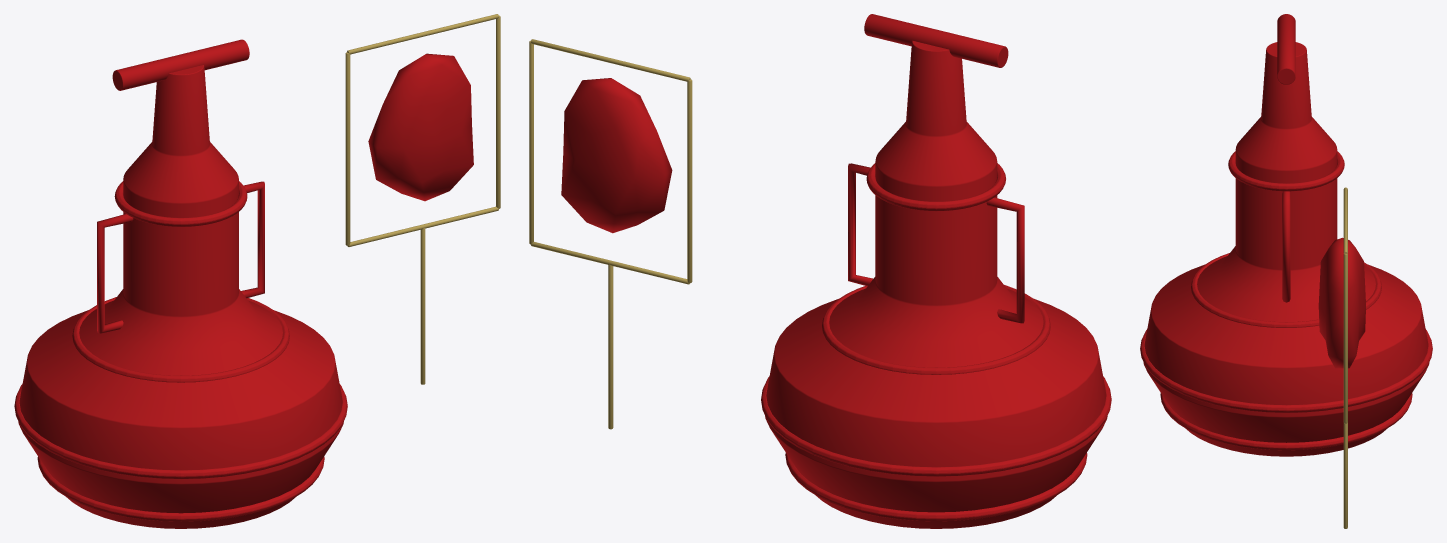
3 renders of one model, left to right at view 1: azimuth 30°, elevation 25°; view 2: azimuth 150°, elevation 25°; view 3: azimuth 270°, elevation 25°, orthographic. The views are drawn at different scales.
Visible parts, largest first — view 1: TI087 / spherical lower high-grade flask, TI087 / separate mineral specimen, TI087 / flask assembly seam.001, TI087 / flask assembly seam, TI087 / top hand valve, TI087 / flask assembly seam.002, TI087 / flask assembly seam.003, TI087 / flask protective side handle, TI087 / specimen display frame.003, TI087 / flask protective side handle.001, TI087 / specimen display frame.001, TI087 / specimen support (+2 smaller); view 2: TI087 / spherical lower high-grade flask, TI087 / separate mineral specimen, TI087 / flask assembly seam.001, TI087 / flask assembly seam, TI087 / top hand valve, TI087 / flask assembly seam.002, TI087 / flask assembly seam.003, TI087 / flask protective side handle, TI087 / specimen display frame.003, TI087 / flask protective side handle.001, TI087 / specimen display frame.001, TI087 / specimen support (+2 smaller); view 3: TI087 / spherical lower high-grade flask, TI087 / separate mineral specimen, TI087 / flask assembly seam.001, TI087 / flask assembly seam, TI087 / flask assembly seam.002, TI087 / top hand valve, TI087 / flask assembly seam.003, TI087 / flask protective side handle.001, TI087 / specimen display frame.001, TI087 / specimen support.
Boxes of the visible parts, x1,y1,x2,y2 form: TI087 / spherical lower high-grade flask: (18, 65, 343, 528); TI087 / separate mineral specimen: (368, 53, 473, 201); TI087 / flask assembly seam.001: (14, 384, 347, 478); TI087 / flask assembly seam: (37, 456, 324, 521); TI087 / top hand valve: (112, 39, 249, 90); TI087 / flask assembly seam.002: (72, 297, 289, 382); TI087 / flask assembly seam.003: (114, 181, 247, 226); TI087 / flask protective side handle: (97, 214, 133, 333); TI087 / specimen display frame.003: (345, 52, 350, 245); TI087 / flask protective side handle.001: (241, 181, 264, 298); TI087 / specimen display frame.001: (496, 15, 500, 208); TI087 / specimen support: (420, 228, 425, 384); TI087 / spherical lower high-grade flask: (765, 40, 1107, 528); TI087 / separate mineral specimen: (561, 78, 672, 233); TI087 / flask assembly seam.001: (761, 376, 1111, 476); TI087 / flask assembly seam: (785, 453, 1087, 521); TI087 / top hand valve: (864, 14, 1008, 67); TI087 / flask assembly seam.002: (822, 285, 1050, 374); TI087 / flask assembly seam.003: (866, 163, 1005, 211); TI087 / flask protective side handle: (986, 197, 1024, 323); TI087 / specimen display frame.003: (687, 79, 692, 282); TI087 / flask protective side handle.001: (848, 163, 872, 286); TI087 / specimen display frame.001: (529, 40, 533, 244); TI087 / specimen support: (608, 264, 613, 429); TI087 / spherical lower high-grade flask: (1143, 42, 1429, 456); TI087 / separate mineral specimen: (1318, 237, 1365, 368); TI087 / flask assembly seam.001: (1140, 329, 1432, 412); TI087 / flask assembly seam: (1160, 393, 1412, 450); TI087 / flask assembly seam.002: (1191, 253, 1381, 327); TI087 / top hand valve: (1277, 14, 1295, 84); TI087 / flask assembly seam.003: (1228, 151, 1344, 191); TI087 / flask protective side handle.001: (1282, 191, 1290, 302); TI087 / specimen display frame.001: (1343, 253, 1347, 422); TI087 / specimen support: (1343, 422, 1347, 528).
Bounding box in the file's own units: 2.98 × 2.51 × 1.73.
